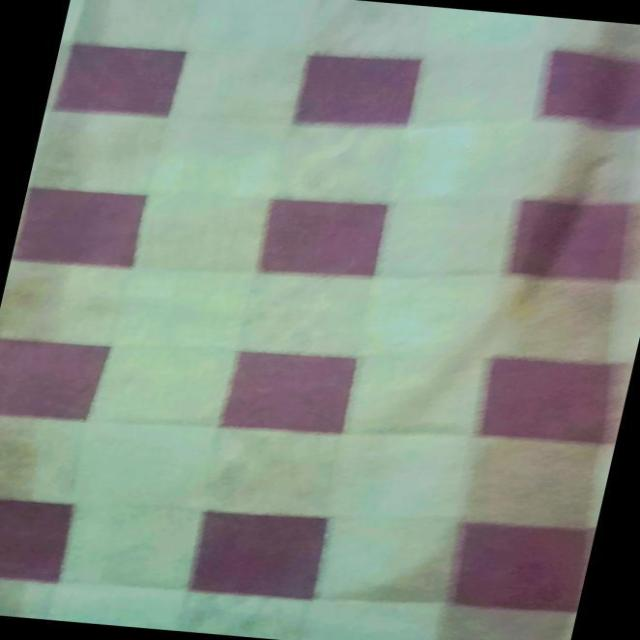color issues: (449, 20, 640, 639), (0, 108, 125, 616), (195, 420, 366, 538)
